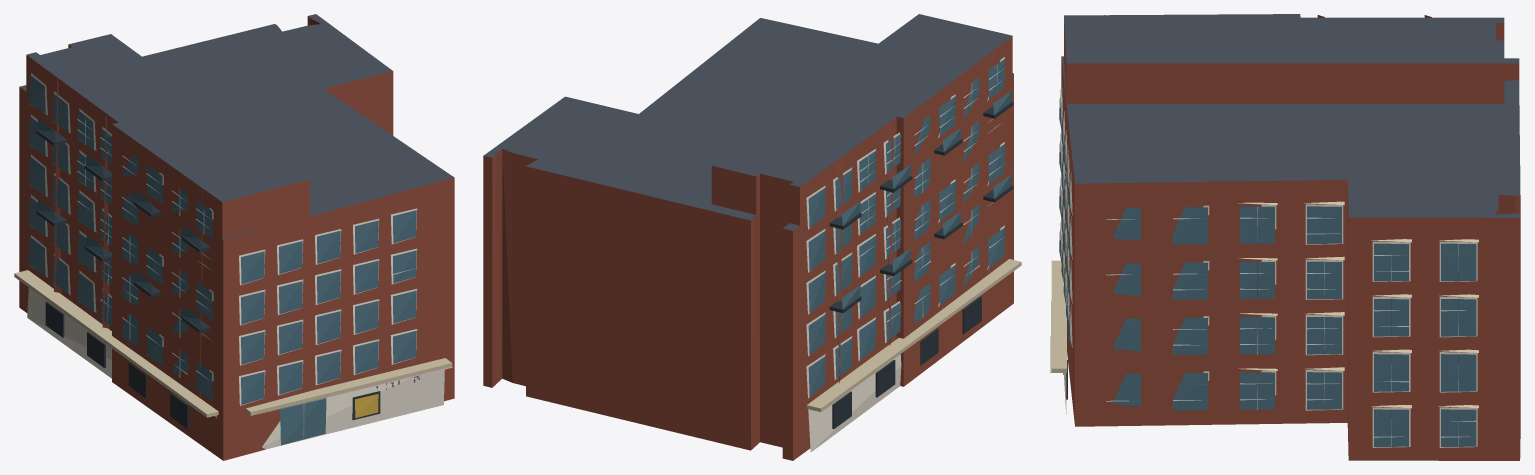
The model's file is cinecenter.lod1.glb.
The picture shows the model from 3 angles, left to right: view 1: azimuth 30°, elevation 25°; view 2: azimuth 150°, elevation 25°; view 3: azimuth 270°, elevation 25°; orthographic projection. The views are drawn at different scales.
Parts seen in each view (by area): view 1: cinecenter; view 2: cinecenter; view 3: cinecenter.
Boxes of the visible parts, x1,y1,x2,y2 form: cinecenter: [14, 14, 454, 460]; cinecenter: [483, 14, 1021, 460]; cinecenter: [1050, 14, 1520, 460].
Size of the model in its own units: 26.32 by 20.55 by 30.84.
